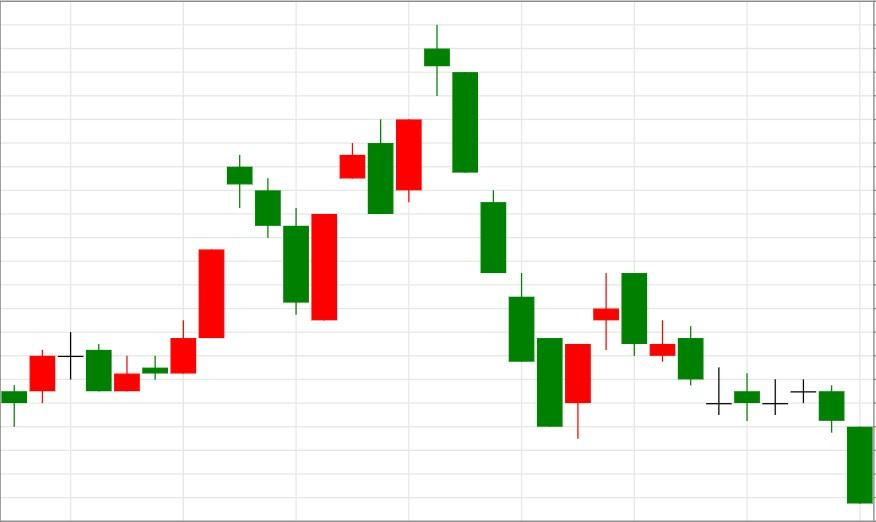bearish_engulfing_fall: (536, 272, 648, 437)
bullish_engulfing_rise: (227, 155, 338, 322)
three_black_crows_fall: (0, 154, 310, 427), (310, 24, 507, 321)
